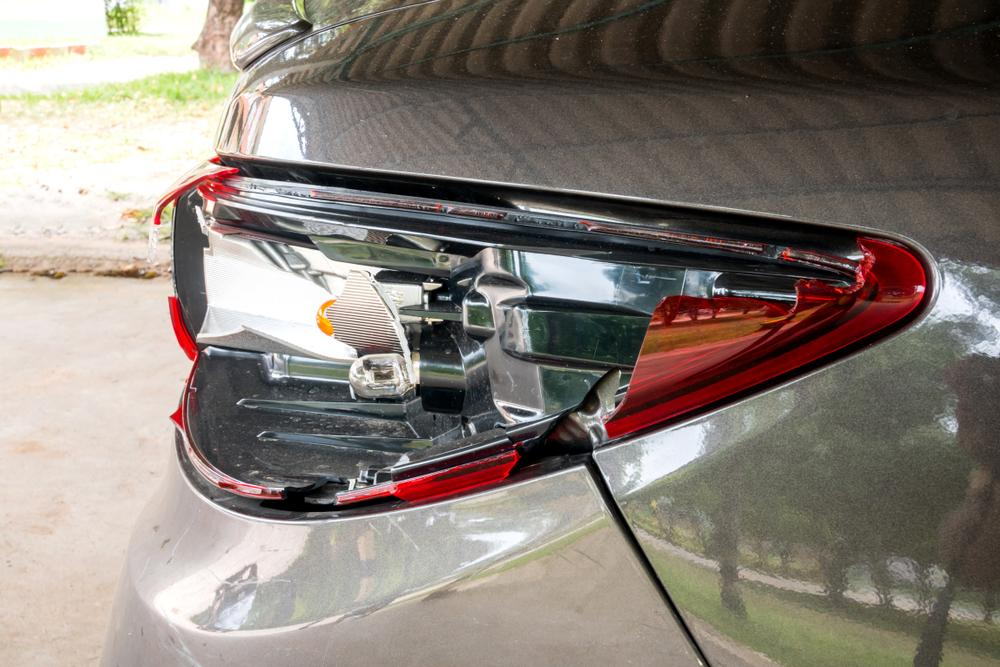lamp broken: (154, 161, 932, 513)
